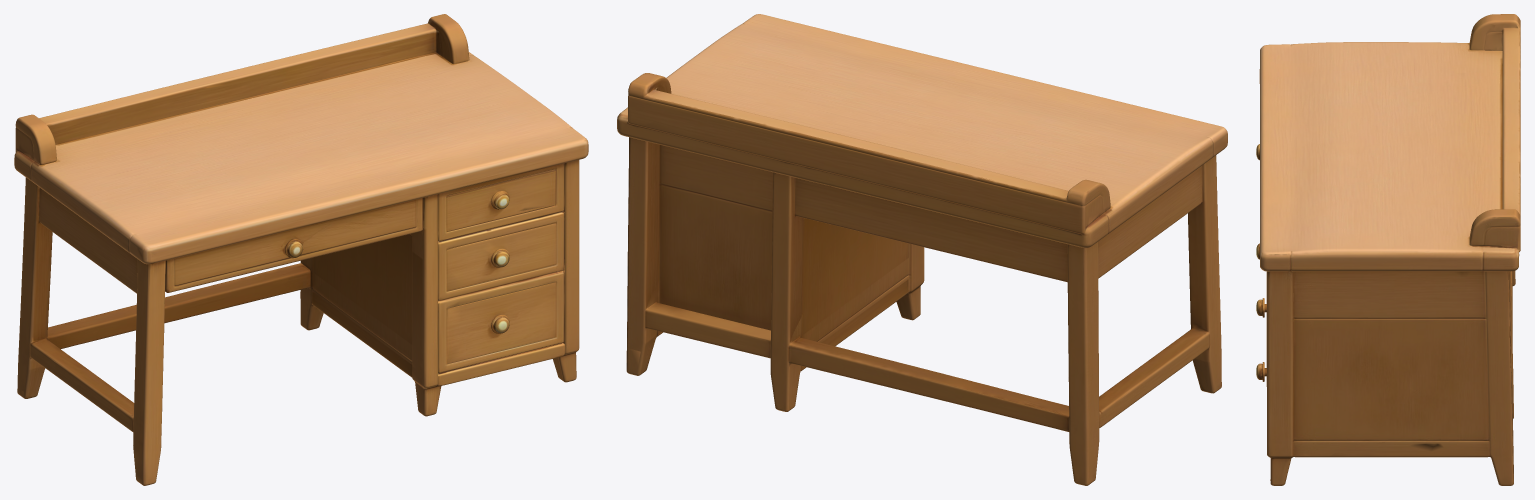
File: desk.glb
3 renders of one model, left to right at view 1: azimuth 30°, elevation 25°; view 2: azimuth 150°, elevation 25°; view 3: azimuth 270°, elevation 25°, orthographic. The views are drawn at different scales.
Parts seen in each view (by area): view 1: node_0; view 2: node_0; view 3: node_0.
Part boxes in pixels (x1,y1,x2,y2): node_0: [14, 14, 588, 485]; node_0: [617, 14, 1227, 485]; node_0: [1256, 14, 1520, 485].
Bounding box in the file's own units: 0.959 × 0.5694 × 0.5078.
1 material, 1 textured.
